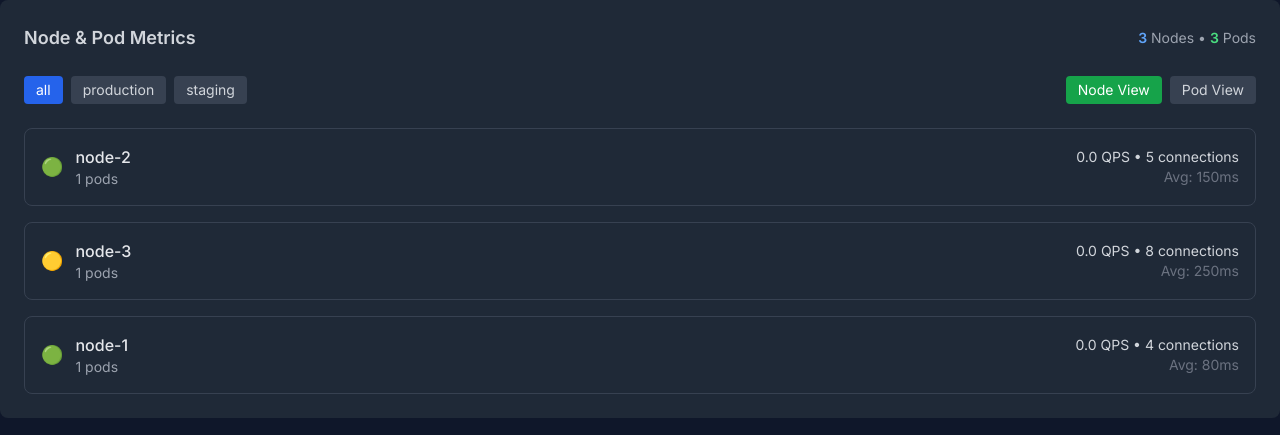
Scenario: NodePodMetrics › should toggle between node view and pod view
Expected: the button "Node View" is shown, [1066, 76, 1162, 104]
Note: Click pod view
Step 1. Click the button "Pod View" → click(1213, 90), box [1170, 76, 1256, 104]
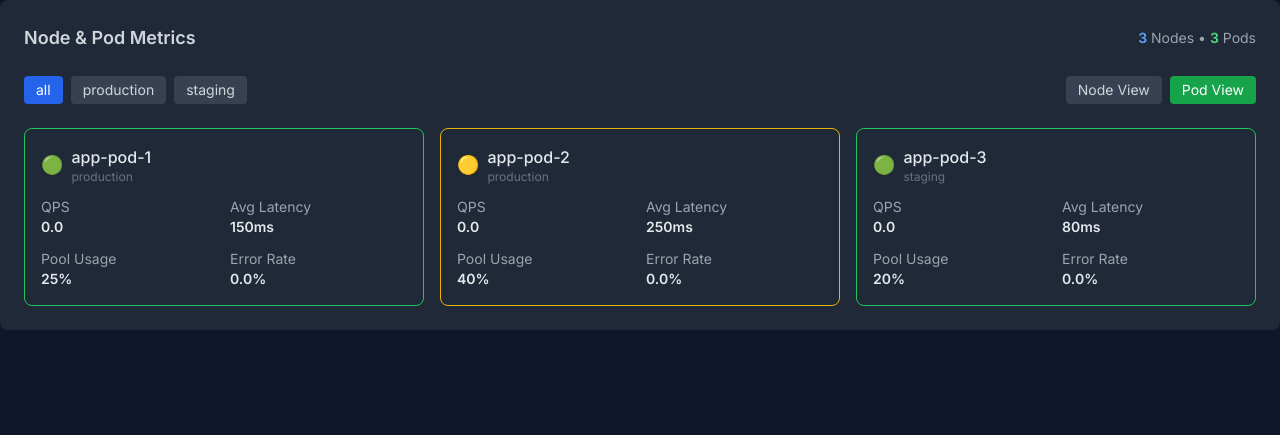
Expected: the heading "app-pod-1" is shown, [72, 145, 151, 169]
